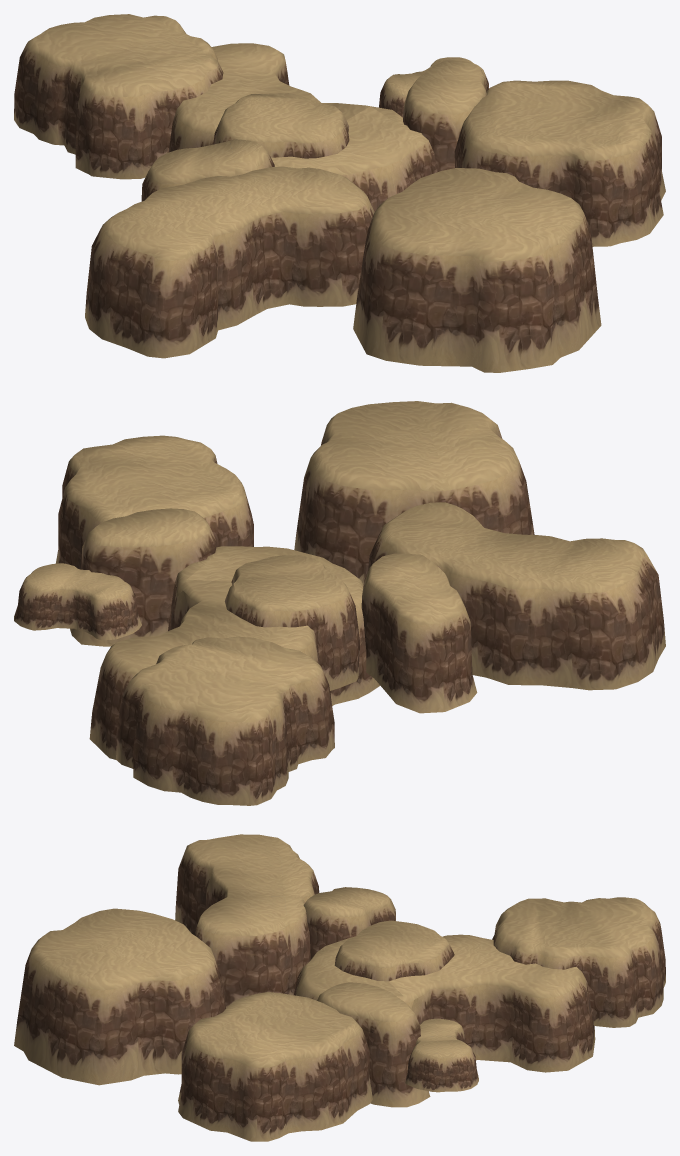
File: FB5_DixinGshati.FBX
The picture shows the model from 3 angles, top to bottom: view 1: azimuth 30°, elevation 25°; view 2: azimuth 150°, elevation 25°; view 3: azimuth 270°, elevation 25°; orthographic projection. The views are drawn at different scales.
Visible parts, largest first — view 1: FB5_DixinGshati_7, FB5_DixinGshati_5, FB5_DixinGshati_2, FB5_DixinGshati_3, FB5_DixinGshati_4, FB5_DixinGshati_9, FB5_DixinGshati_8, FB5_DixinGshati_6, FB5_DixinGshati_1; view 2: FB5_DixinGshati_5, FB5_DixinGshati_2, FB5_DixinGshati_7, FB5_DixinGshati_3, FB5_DixinGshati_6, FB5_DixinGshati_4, FB5_DixinGshati_8, FB5_DixinGshati_9, FB5_DixinGshati_1; view 3: FB5_DixinGshati_7, FB5_DixinGshati_3, FB5_DixinGshati_4, FB5_DixinGshati_5, FB5_DixinGshati_2, FB5_DixinGshati_8, FB5_DixinGshati_9, FB5_DixinGshati_1, FB5_DixinGshati_6.
Part boxes in pixels (bbox=[...]): FB5_DixinGshati_7: bbox=[353, 168, 601, 372]; FB5_DixinGshati_5: bbox=[85, 166, 374, 358]; FB5_DixinGshati_2: bbox=[14, 14, 223, 179]; FB5_DixinGshati_3: bbox=[454, 80, 665, 246]; FB5_DixinGshati_4: bbox=[168, 43, 437, 211]; FB5_DixinGshati_9: bbox=[213, 93, 349, 158]; FB5_DixinGshati_8: bbox=[403, 60, 488, 171]; FB5_DixinGshati_6: bbox=[141, 139, 274, 201]; FB5_DixinGshati_1: bbox=[378, 57, 489, 117]; FB5_DixinGshati_5: bbox=[368, 502, 665, 690]; FB5_DixinGshati_2: bbox=[116, 636, 334, 805]; FB5_DixinGshati_7: bbox=[294, 401, 534, 584]; FB5_DixinGshati_3: bbox=[56, 435, 253, 569]; FB5_DixinGshati_6: bbox=[361, 553, 477, 713]; FB5_DixinGshati_4: bbox=[89, 546, 380, 759]; FB5_DixinGshati_8: bbox=[70, 508, 216, 646]; FB5_DixinGshati_9: bbox=[225, 555, 359, 690]; FB5_DixinGshati_1: bbox=[14, 563, 141, 640]; FB5_DixinGshati_7: bbox=[14, 908, 225, 1085]; FB5_DixinGshati_3: bbox=[178, 992, 372, 1141]; FB5_DixinGshati_4: bbox=[293, 934, 595, 1072]; FB5_DixinGshati_5: bbox=[175, 834, 319, 1008]; FB5_DixinGshati_2: bbox=[492, 897, 665, 1027]; FB5_DixinGshati_8: bbox=[317, 982, 430, 1107]; FB5_DixinGshati_9: bbox=[334, 920, 454, 981]; FB5_DixinGshati_1: bbox=[405, 1018, 478, 1092]; FB5_DixinGshati_6: bbox=[303, 887, 395, 959].
Size of the model in its own units: 29170 by 5739 by 33753.
Materials: 1 (1 with a texture image).
